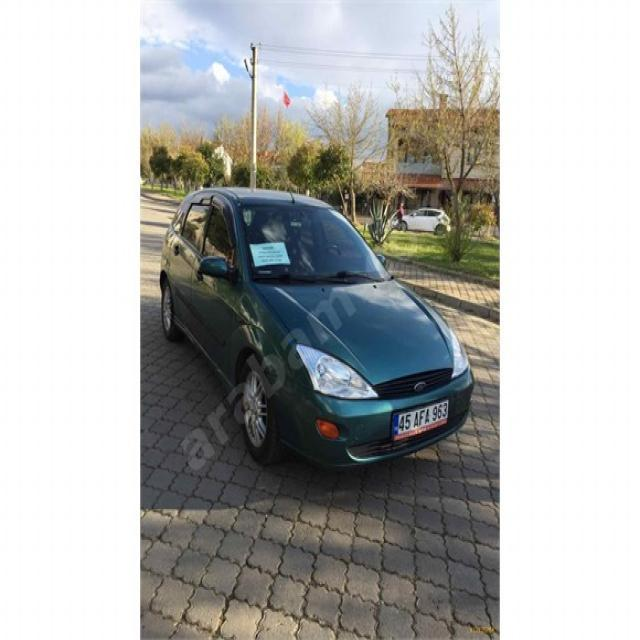plate: (391, 397, 450, 445)
